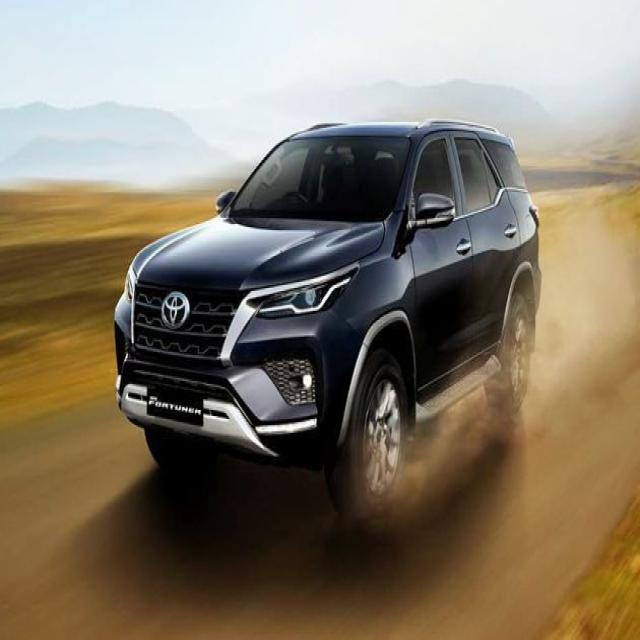light_vehicle: (113, 118, 543, 527)
